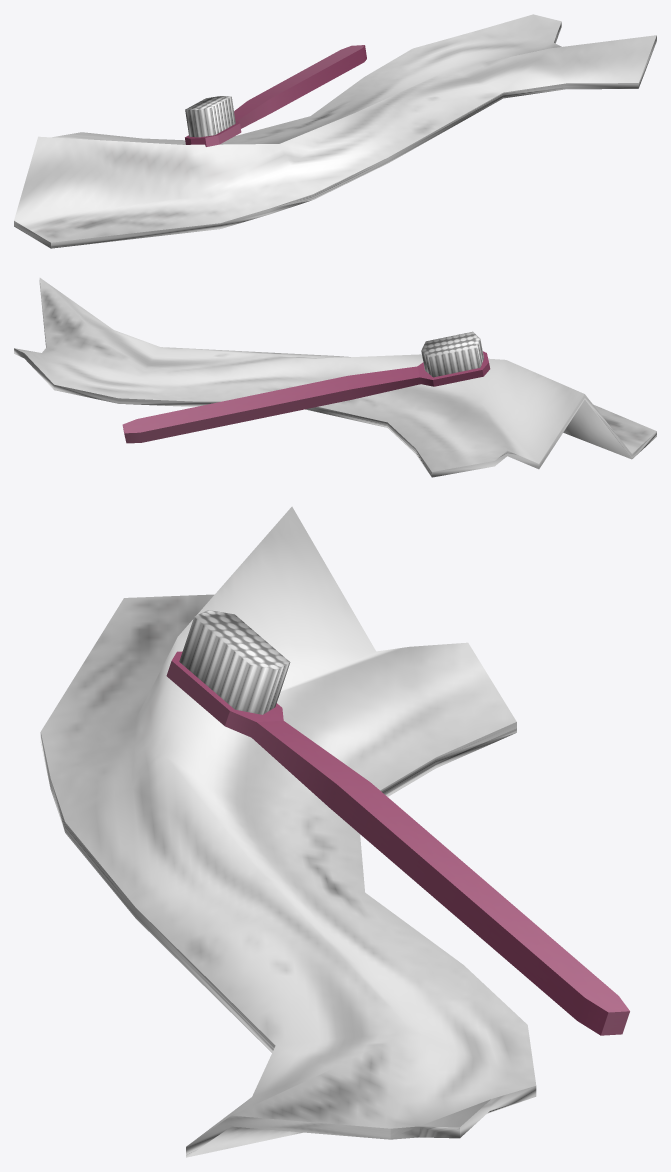
File: TLOG_ImprovisedCleaningKit.fbx
3 renders of one model, top to bottom at view 1: azimuth 30°, elevation 25°; view 2: azimuth 150°, elevation 25°; view 3: azimuth 270°, elevation 25°, orthographic. The views are drawn at different scales.
Visible parts, largest first — view 1: Toothbrush; view 2: Toothbrush; view 3: Toothbrush.
Part boxes in pixels (x1,y1,x2,y2): Toothbrush: (14, 14, 656, 248); Toothbrush: (14, 278, 656, 477); Toothbrush: (40, 506, 629, 1157).
Size of the model in its own units: 0.2327 by 0.0343 by 0.0998.
